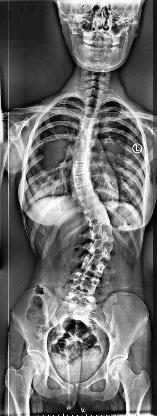Vertebrae: (70, 271, 102, 295), (80, 252, 108, 277), (84, 238, 114, 260), (88, 222, 116, 242), (86, 209, 112, 230), (81, 196, 105, 216), (76, 183, 98, 203), (76, 124, 96, 140), (73, 135, 93, 151), (72, 148, 92, 164), (71, 160, 91, 176), (80, 115, 98, 132), (74, 173, 92, 189), (84, 96, 104, 110), (82, 106, 100, 120)
